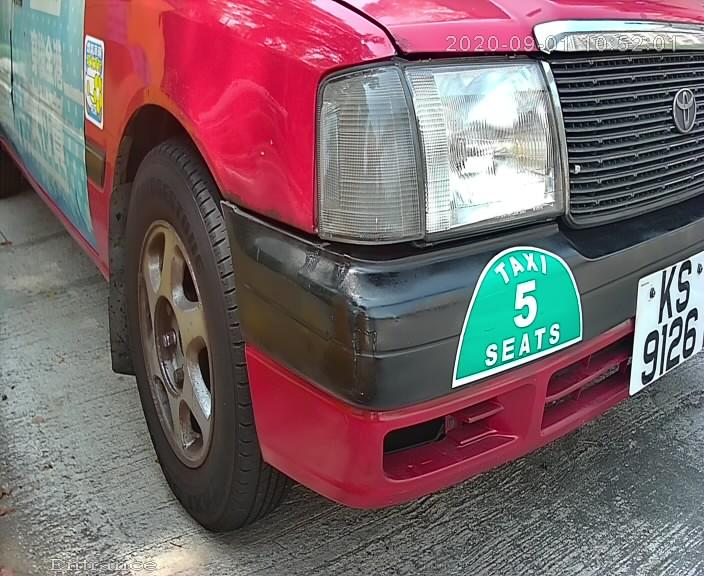Car: (16, 8, 704, 541)
License Plate: (617, 245, 704, 391)
